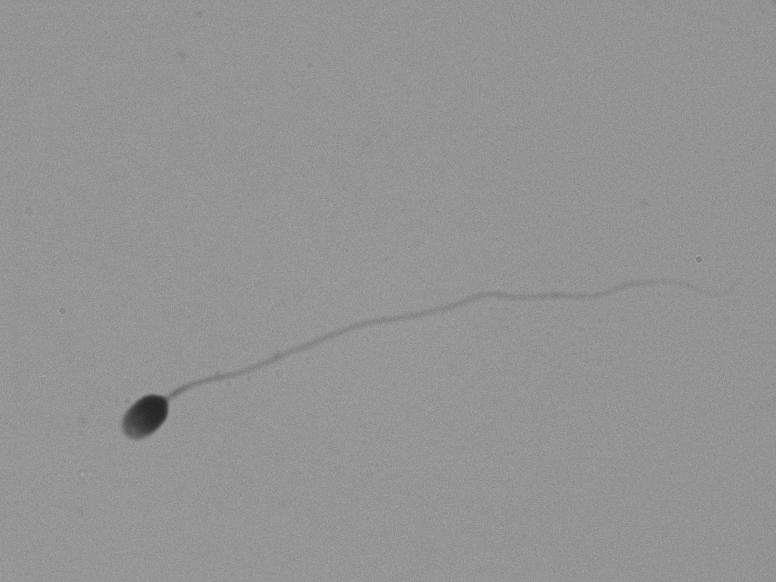Normal: (79, 175, 714, 502)
